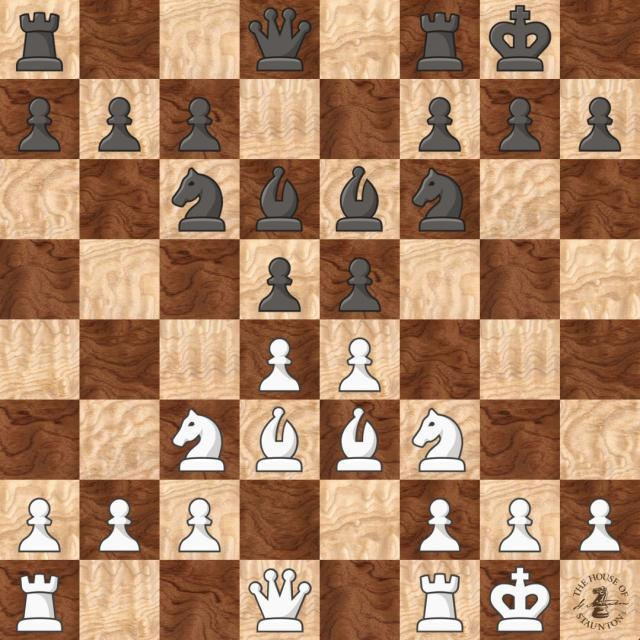black-bishop: (336, 167, 383, 232), (256, 167, 303, 232)
black-king: (489, 4, 552, 72)
black-knight: (172, 168, 226, 232), (412, 168, 466, 232)
black-pawn: (258, 257, 301, 312), (339, 257, 382, 312), (418, 97, 461, 152), (498, 97, 541, 152), (579, 97, 622, 152), (178, 97, 221, 152), (98, 97, 141, 152), (18, 97, 61, 152)
black-queen: (248, 7, 312, 72)
black-rook: (416, 12, 464, 72), (15, 11, 63, 71)
white-bishop: (255, 407, 303, 473), (335, 407, 383, 473)
white-king: (489, 566, 553, 633)
white-knight: (412, 407, 467, 472), (171, 408, 226, 473)
white-pawn: (419, 497, 462, 552), (498, 498, 541, 553), (578, 498, 621, 553), (178, 497, 221, 552), (98, 498, 141, 553), (18, 498, 61, 553), (338, 337, 381, 392), (258, 337, 301, 392)
white-queen: (248, 568, 312, 633)
white-rook: (16, 573, 64, 633), (416, 573, 464, 633)
